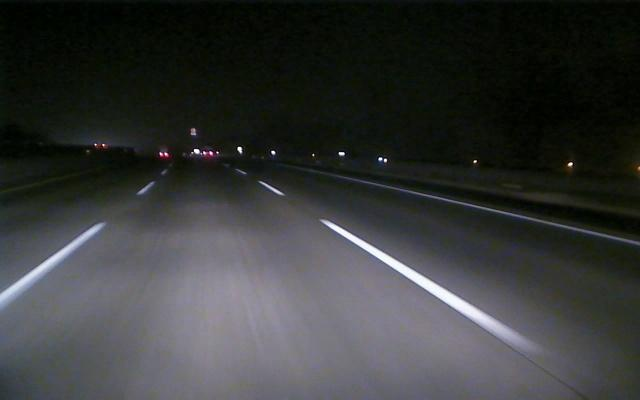lane: (258, 179, 543, 360), (1, 182, 154, 308), (369, 181, 640, 246)
